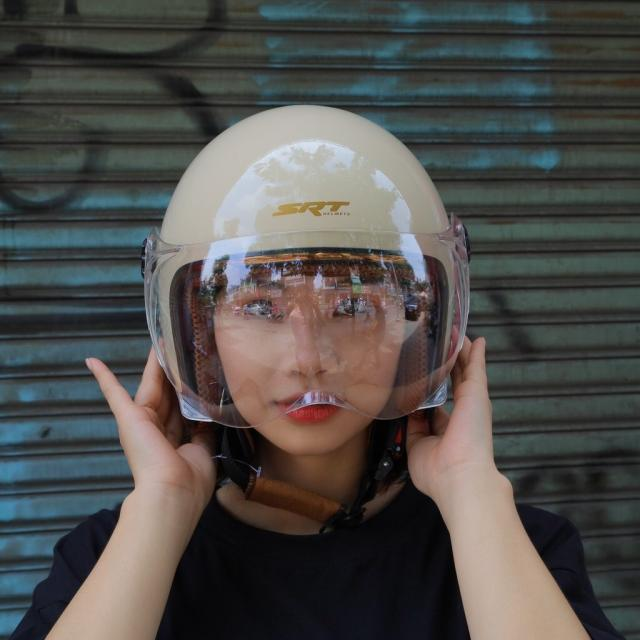helmet: (133, 93, 482, 530)
